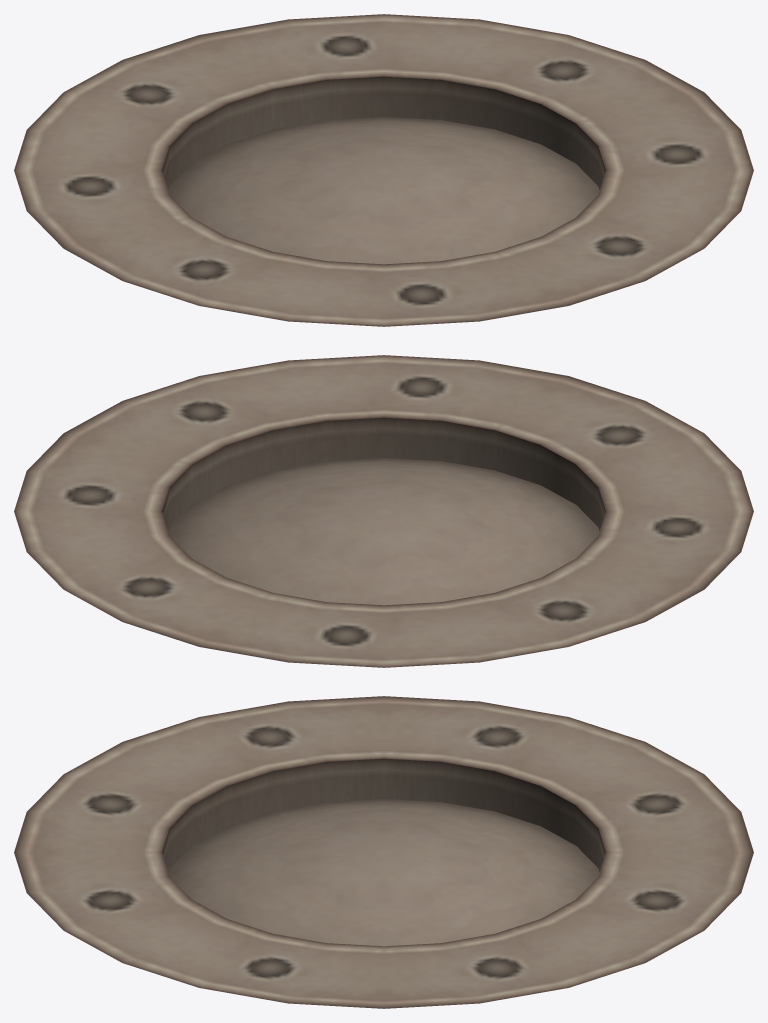
File: endcaps.obj
The picture shows the model from 3 angles, top to bottom: view 1: azimuth 30°, elevation 25°; view 2: azimuth 150°, elevation 25°; view 3: azimuth 270°, elevation 25°; orthographic projection.
Visible parts, largest first — view 1: s0; view 2: s0; view 3: s0.
Part boxes in pixels (bbox=[...]): s0: bbox=[14, 14, 753, 326]; s0: bbox=[14, 355, 753, 667]; s0: bbox=[14, 696, 753, 1008].
Size of the model in its own units: 0.625 by 0.0375 by 0.625.
Materials: 1 (1 with a texture image).
